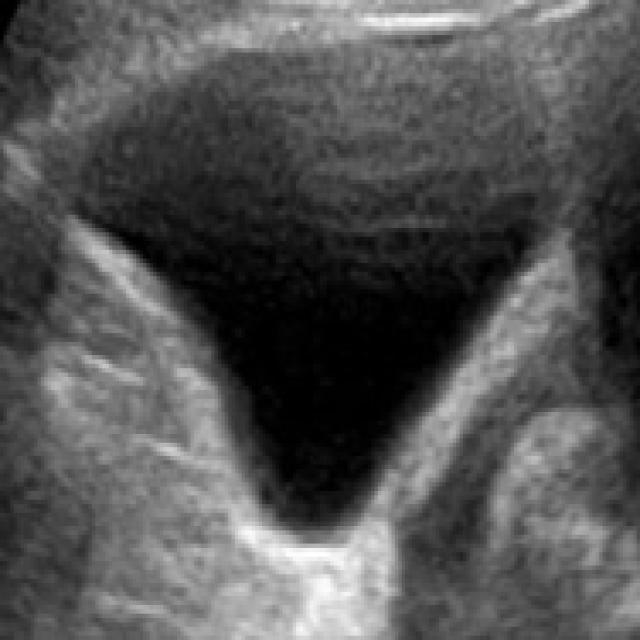bladder: (37, 8, 589, 630)
